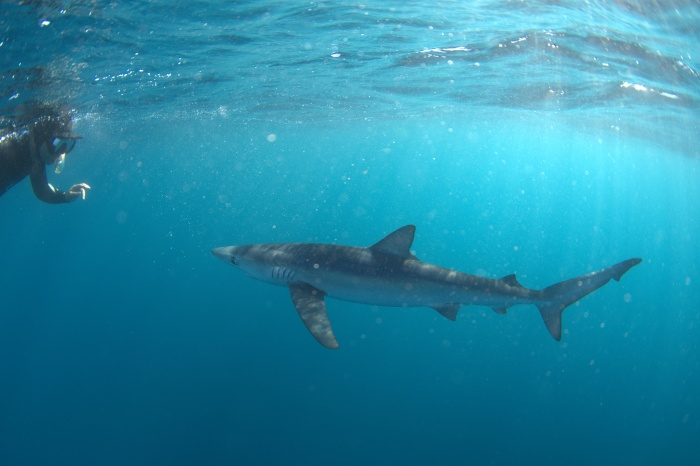Azul: (185, 204, 667, 363)
